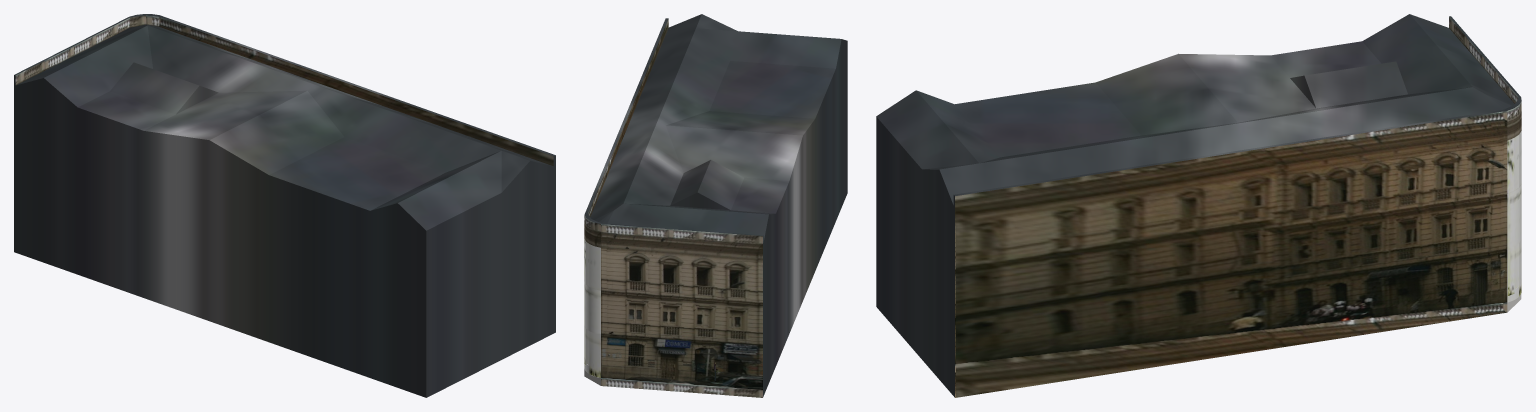
The model's file is Edificio+antiguo+entre+cra+3+con+Cll+10+(Cali).fbx.
3 views of the same model, side by side, from view 1: azimuth 30°, elevation 25°; view 2: azimuth 150°, elevation 25°; view 3: azimuth 270°, elevation 25° (orthographic). The views are drawn at different scales.
Visible parts, largest first — view 1: Model; view 2: Model; view 3: Model.
Part boxes in pixels (x1,y1,x2,y2): Model: (14, 14, 555, 397); Model: (584, 14, 847, 397); Model: (876, 14, 1521, 397).
Size of the model in its own units: 28.06 by 15.28 by 42.51.
